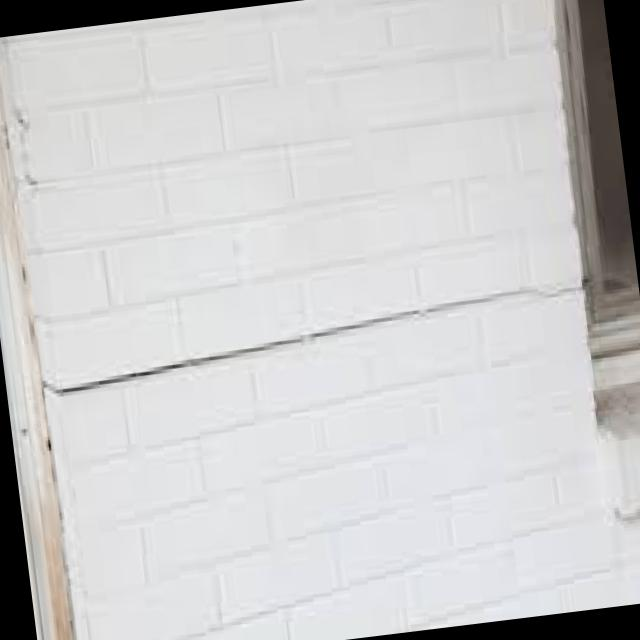crack: (36, 272, 586, 398)
